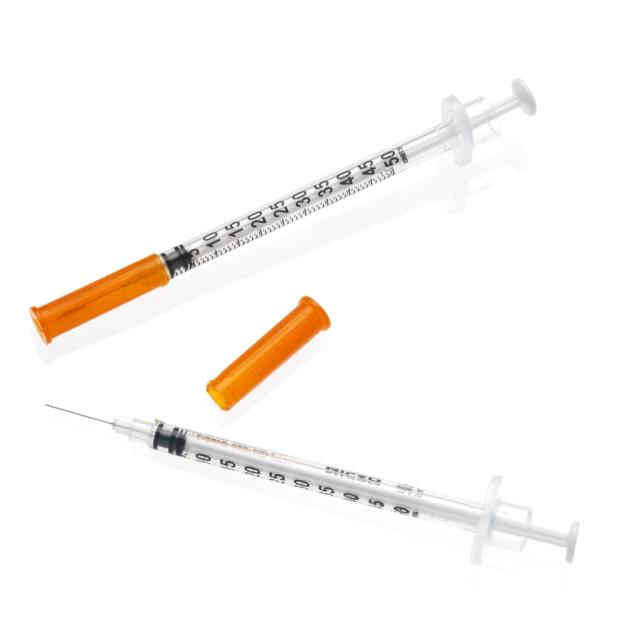syringe: (28, 76, 538, 346), (43, 401, 580, 568)
